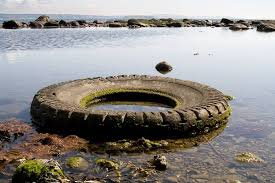tire: (28, 70, 233, 148)
